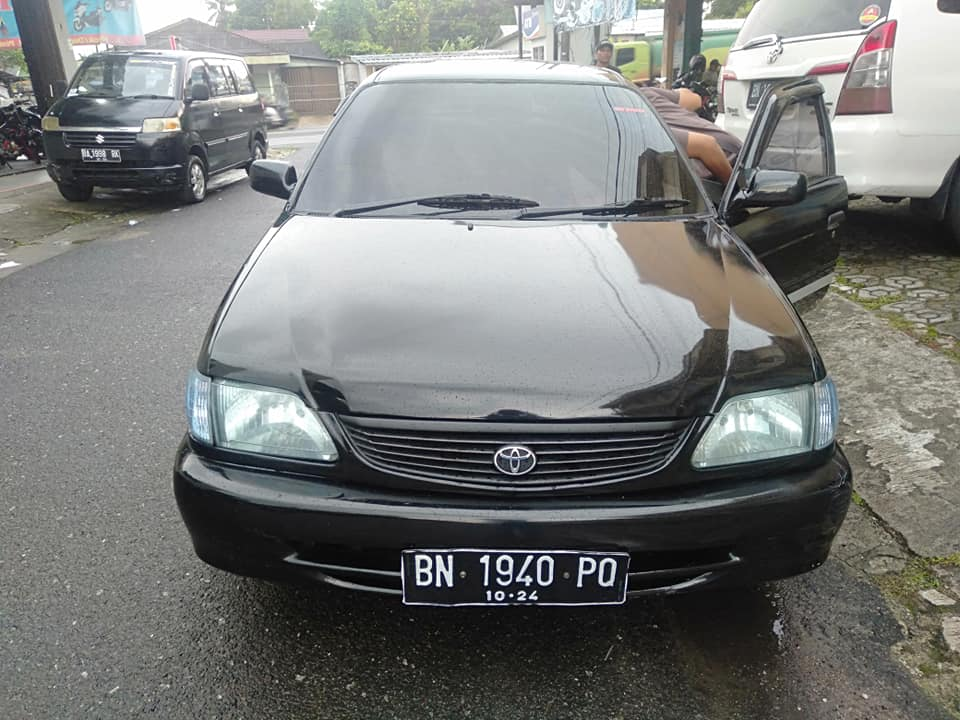plate: (401, 547, 633, 614)
